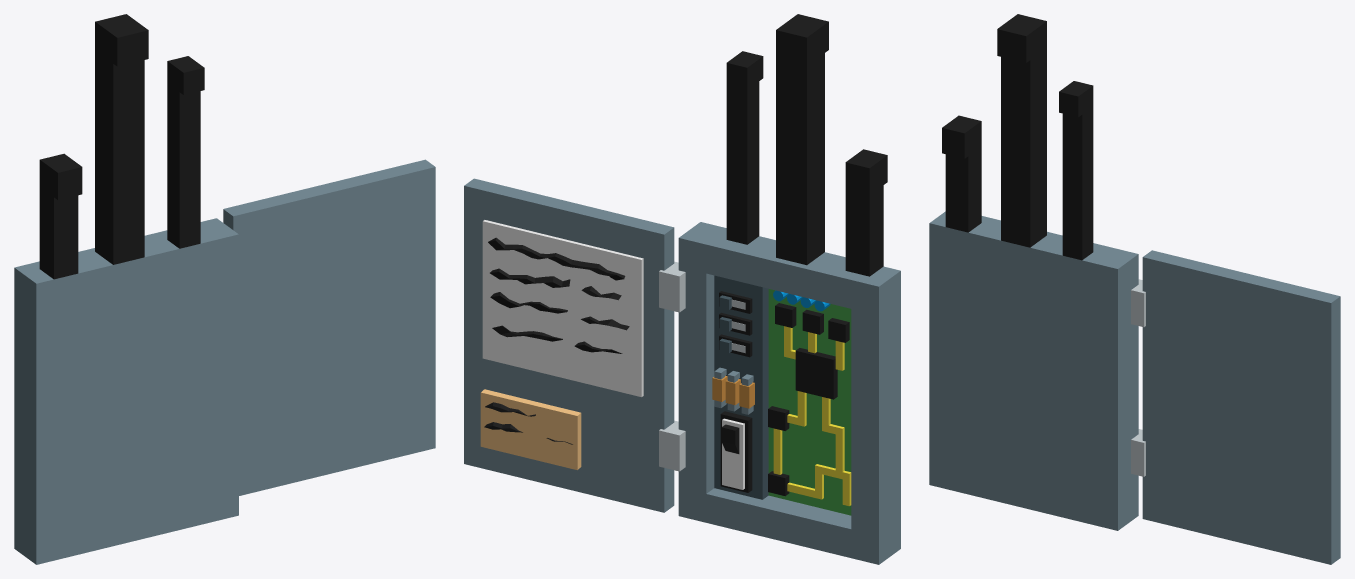
3 renders of one model, left to right at view 1: azimuth 30°, elevation 25°; view 2: azimuth 150°, elevation 25°; view 3: azimuth 330°, elevation 25°, orthographic. The views are drawn at different scales.
Parts seen in each view (by area): view 1: group_221127956, group_1023634171; view 2: group_221127956, group_1023634171; view 3: group_221127956, group_1023634171.
Boxes of the visible parts, x1,y1,x2,y2 form: group_221127956: [14, 14, 238, 564]; group_1023634171: [223, 159, 435, 495]; group_221127956: [659, 14, 900, 564]; group_1023634171: [464, 178, 674, 512]; group_221127956: [929, 14, 1145, 530]; group_1023634171: [1142, 250, 1340, 564].
Size of the model in its own units: 119 by 140 by 18.83.
